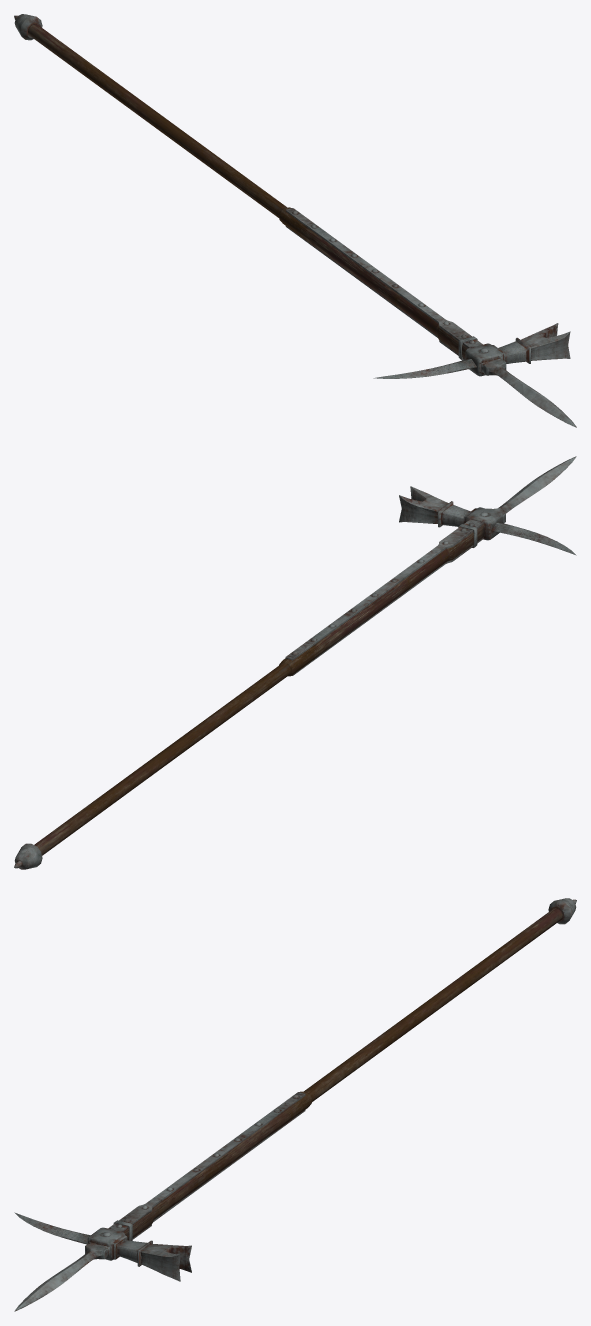
3 renders of one model, top to bottom at view 1: azimuth 30°, elevation 25°; view 2: azimuth 150°, elevation 25°; view 3: azimuth 330°, elevation 25°, orthographic.
Parts seen in each view (by area): view 1: WP_A_1002, WP_A_1002.001; view 2: WP_A_1002, WP_A_1002.001; view 3: WP_A_1002, WP_A_1002.001.
Boxes of the visible parts, <box> form: WP_A_1002: <box>14,14,576,427</box>; WP_A_1002.001: <box>28,24,467,358</box>; WP_A_1002: <box>14,456,576,869</box>; WP_A_1002.001: <box>34,524,484,855</box>; WP_A_1002: <box>14,898,576,1311</box>; WP_A_1002.001: <box>123,908,562,1240</box>.
Size of the model in its own units: 42.73 by 6.18 by 229.
Materials: 2 (2 with a texture image).
